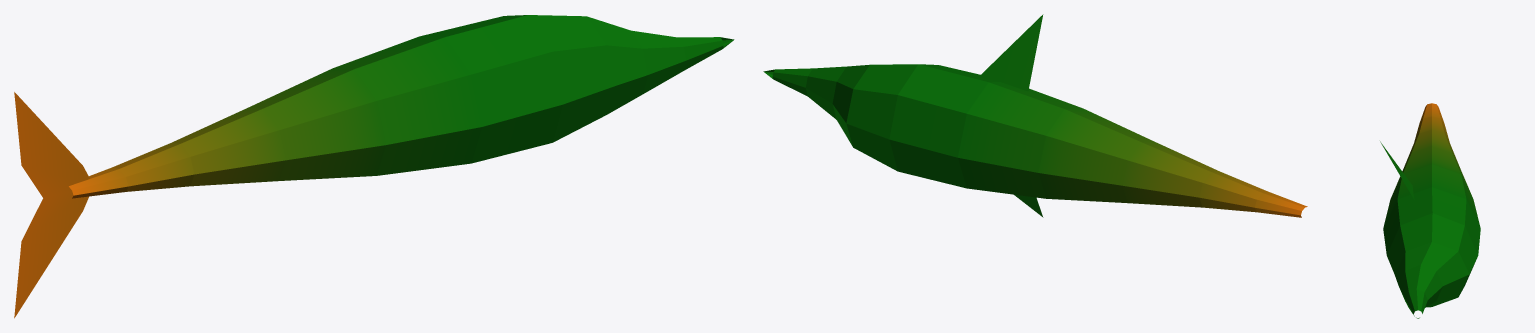
Rendered from dolphin_a.glb.
3 views of the same model, side by side, from view 1: azimuth 30°, elevation 25°; view 2: azimuth 150°, elevation 25°; view 3: azimuth 270°, elevation 25° (orthographic). The views are drawn at different scales.
Parts seen in each view (by area): view 1: dolphin_a; view 2: dolphin_a; view 3: dolphin_a.
Part boxes in pixels (x1,y1,x2,y2): dolphin_a: [14, 15, 734, 318]; dolphin_a: [763, 14, 1307, 217]; dolphin_a: [1380, 103, 1480, 318].
Size of the model in its own units: 1.96 by 0.64 by 0.51.
